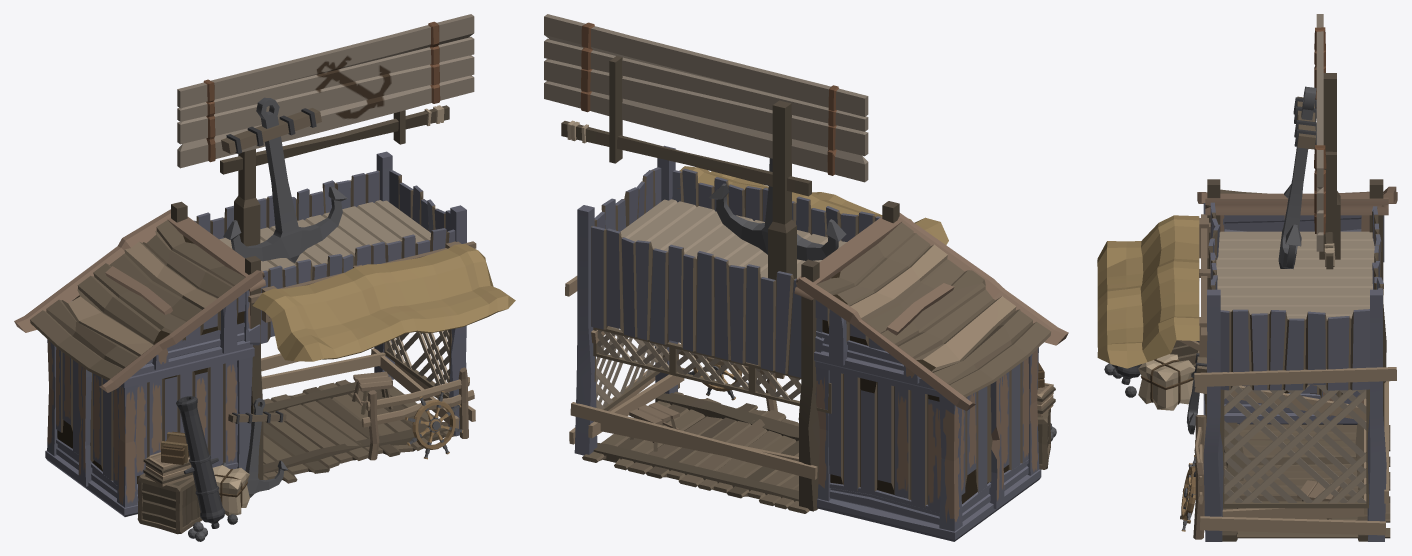
File: SM_Bld_Shop_01.fbx
3 renders of one model, left to right at view 1: azimuth 30°, elevation 25°; view 2: azimuth 150°, elevation 25°; view 3: azimuth 270°, elevation 25°, orthographic. The views are drawn at different scales.
Parts seen in each view (by area): view 1: SM_Bld_Shop_01; view 2: SM_Bld_Shop_01; view 3: SM_Bld_Shop_01.
Boxes of the visible parts, left/top/right/bottom form: SM_Bld_Shop_01: left=14, top=14, right=515, bottom=541; SM_Bld_Shop_01: left=544, top=14, right=1068, bottom=541; SM_Bld_Shop_01: left=1097, top=14, right=1397, bottom=541.
Bounding box in the file's own units: 8.09 × 6.83 × 4.51.
